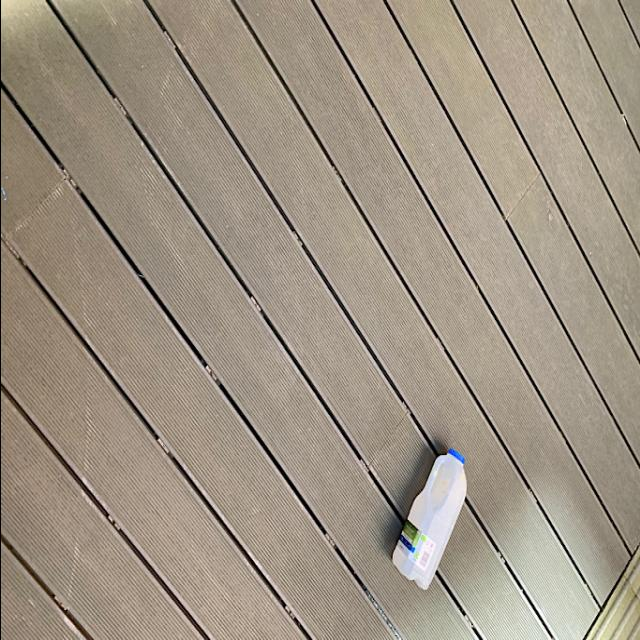HDPEM: (388, 446, 468, 596)
